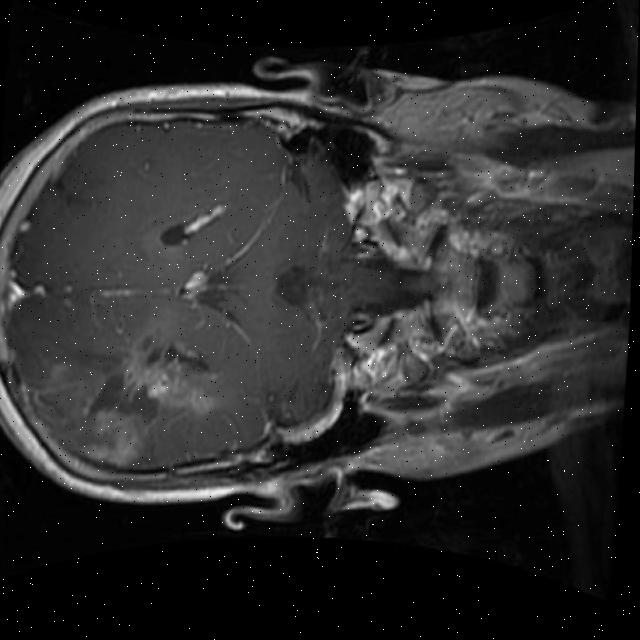Glioma: (18, 354, 147, 470), (123, 328, 224, 414)
